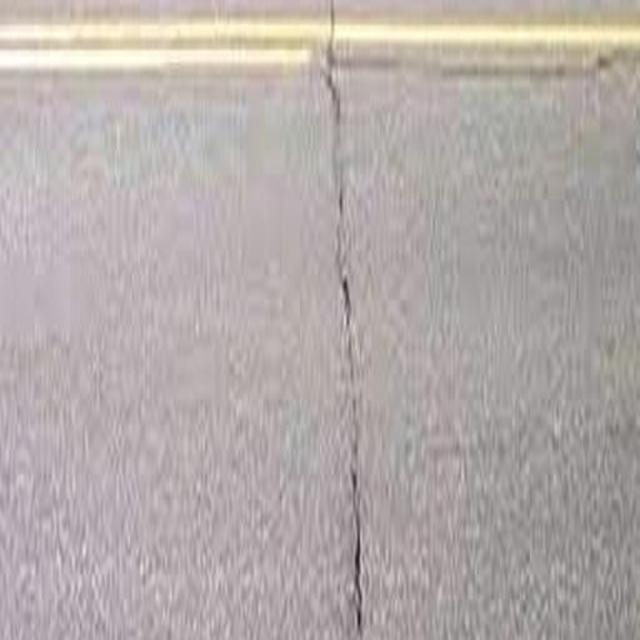moderate crack: (182, 0, 322, 583), (392, 53, 481, 628), (327, 24, 363, 628)
severe crack: (343, 436, 362, 548), (426, 434, 470, 461), (343, 579, 363, 619)
